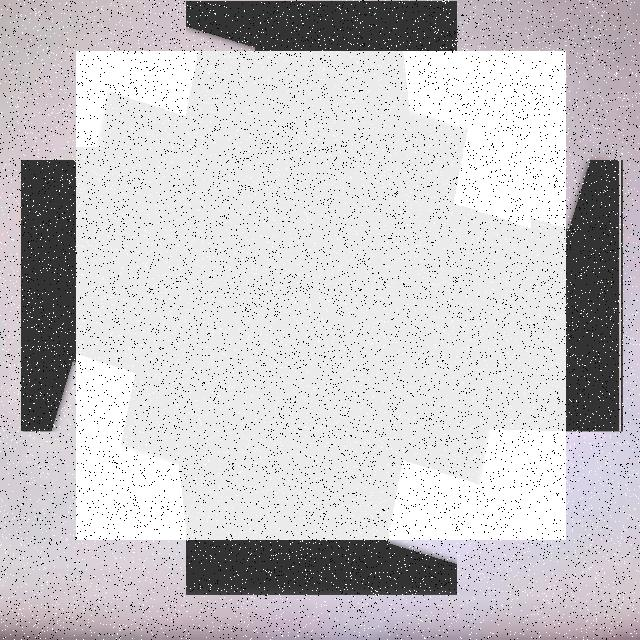lima puluh ribu rupiah: (76, 51, 566, 540)
